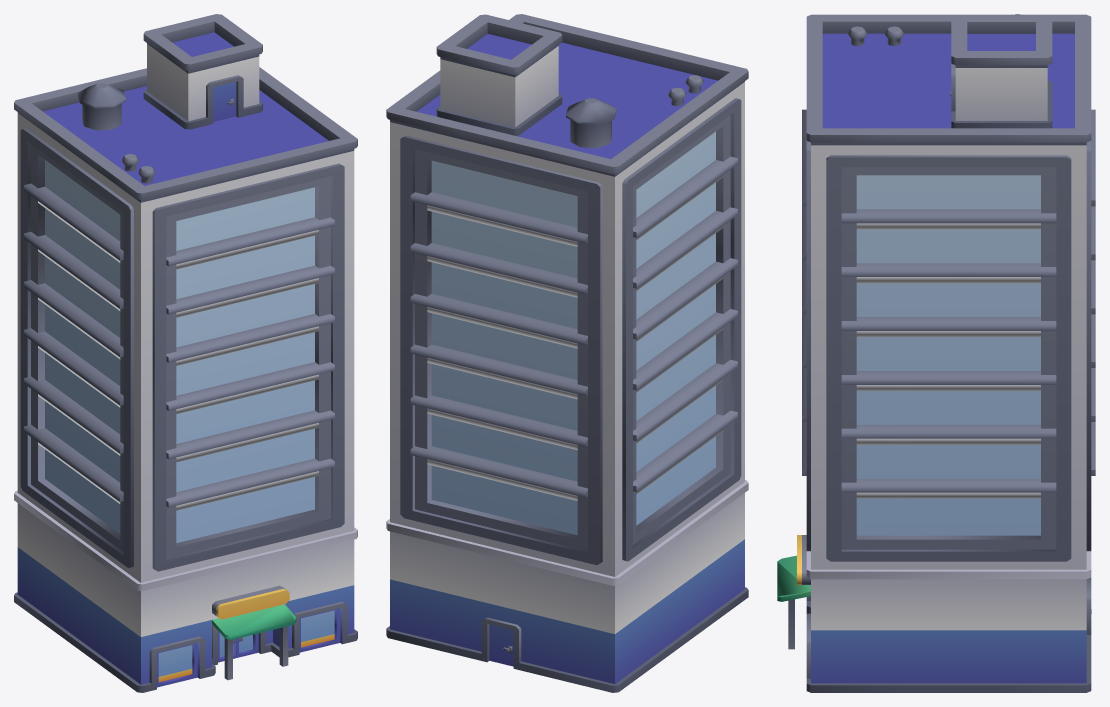
The model's file is office_level2.glb.
3 renders of one model, left to right at view 1: azimuth 30°, elevation 25°; view 2: azimuth 150°, elevation 25°; view 3: azimuth 270°, elevation 25°, orthographic. The views are drawn at different scales.
Visible parts, largest first — view 1: building-skyscraper-c; view 2: building-skyscraper-c; view 3: building-skyscraper-c.
Boxes of the visible parts, box(x1,y1,x2,y2) form: building-skyscraper-c: box(14, 14, 357, 692); building-skyscraper-c: box(386, 14, 748, 692); building-skyscraper-c: box(777, 14, 1095, 692).
Size of the model in its own units: 0.9467 by 2.2 by 1.03.
Materials: 1 (1 with a texture image).
